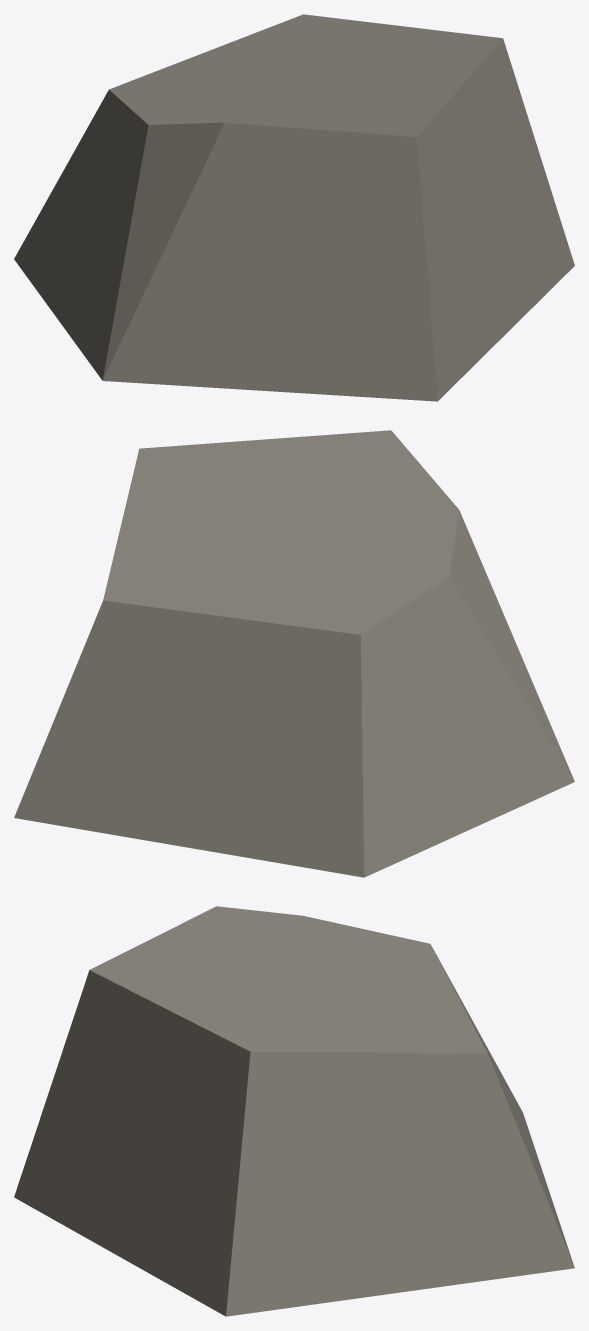
Rendered from TB_D_Env_StoneF_A.FBX.
3 views of the same model, one above another, from view 1: azimuth 30°, elevation 25°; view 2: azimuth 150°, elevation 25°; view 3: azimuth 270°, elevation 25° (orthographic). The views are drawn at different scales.
Parts seen in each view (by area): view 1: TB_D_Env_StoneF_A; view 2: TB_D_Env_StoneF_A; view 3: TB_D_Env_StoneF_A.
Part boxes in pixels (x1,y1,x2,y2): TB_D_Env_StoneF_A: (14,14,574,401); TB_D_Env_StoneF_A: (14,430,574,877); TB_D_Env_StoneF_A: (14,906,574,1316).
Size of the model in its own units: 0.4834 by 0.228 by 0.4922.
